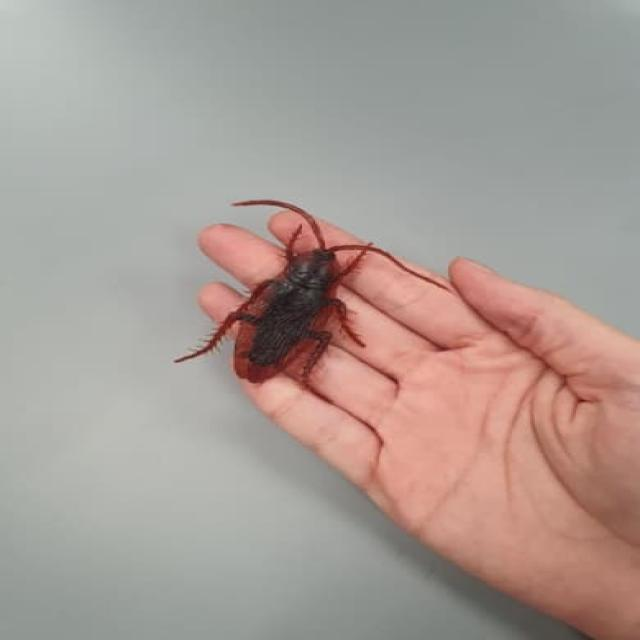Cockroach: (186, 188, 370, 390)
